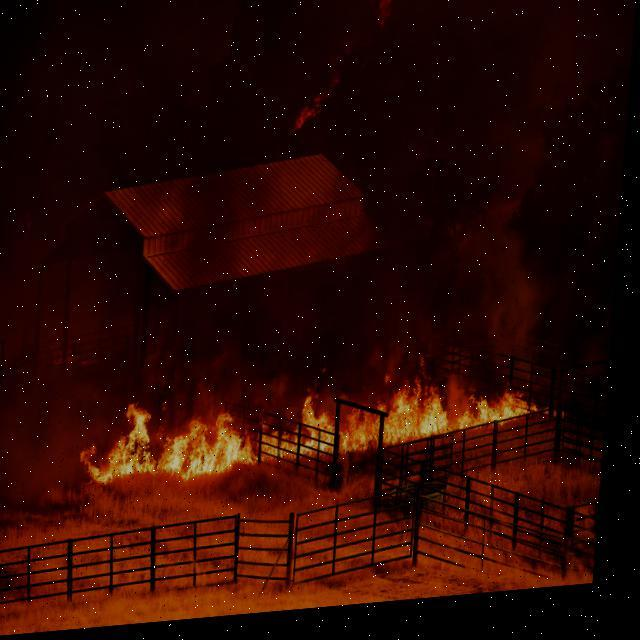Fire: (86, 369, 558, 492)
